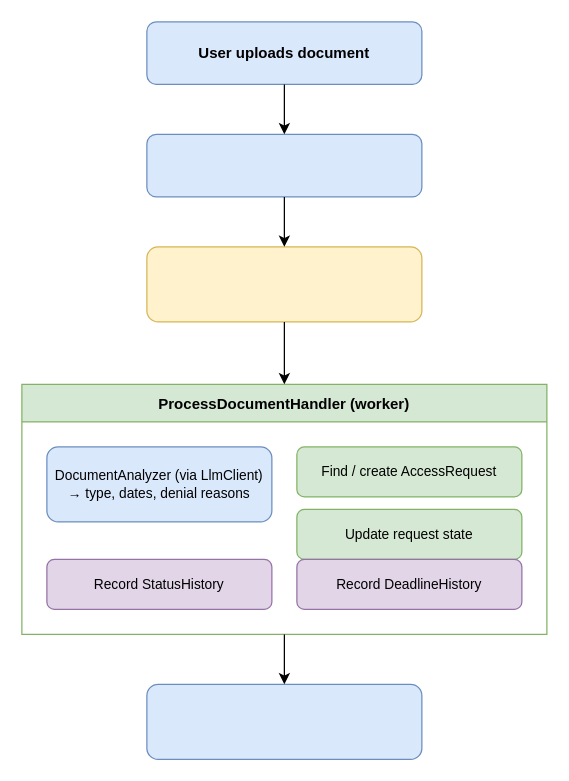
The diagram is 569 pixels wide and 781 high, and some of its shapes have lost their labels. The centre of each missing label's shape, as x and y in pixels:
DocumentController stores in S3: [284,165]
ProcessDocumentMessage dispatched (async via Symfony Messenger): [284,284]
User sees updated request (timeline, documents, deadlines): [284,721]
